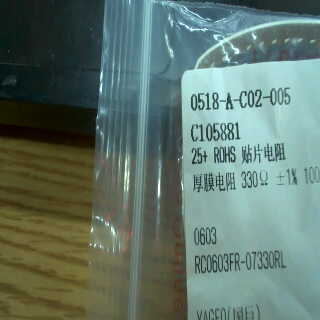330R: (238, 167, 274, 193)
